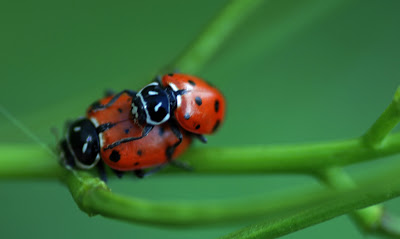convergent lady beetle: (52, 82, 196, 179), (125, 60, 241, 145)
